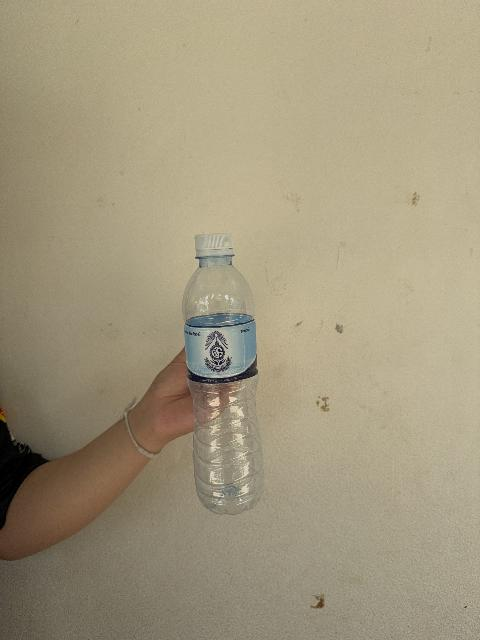bottle: (182, 234, 262, 514)
